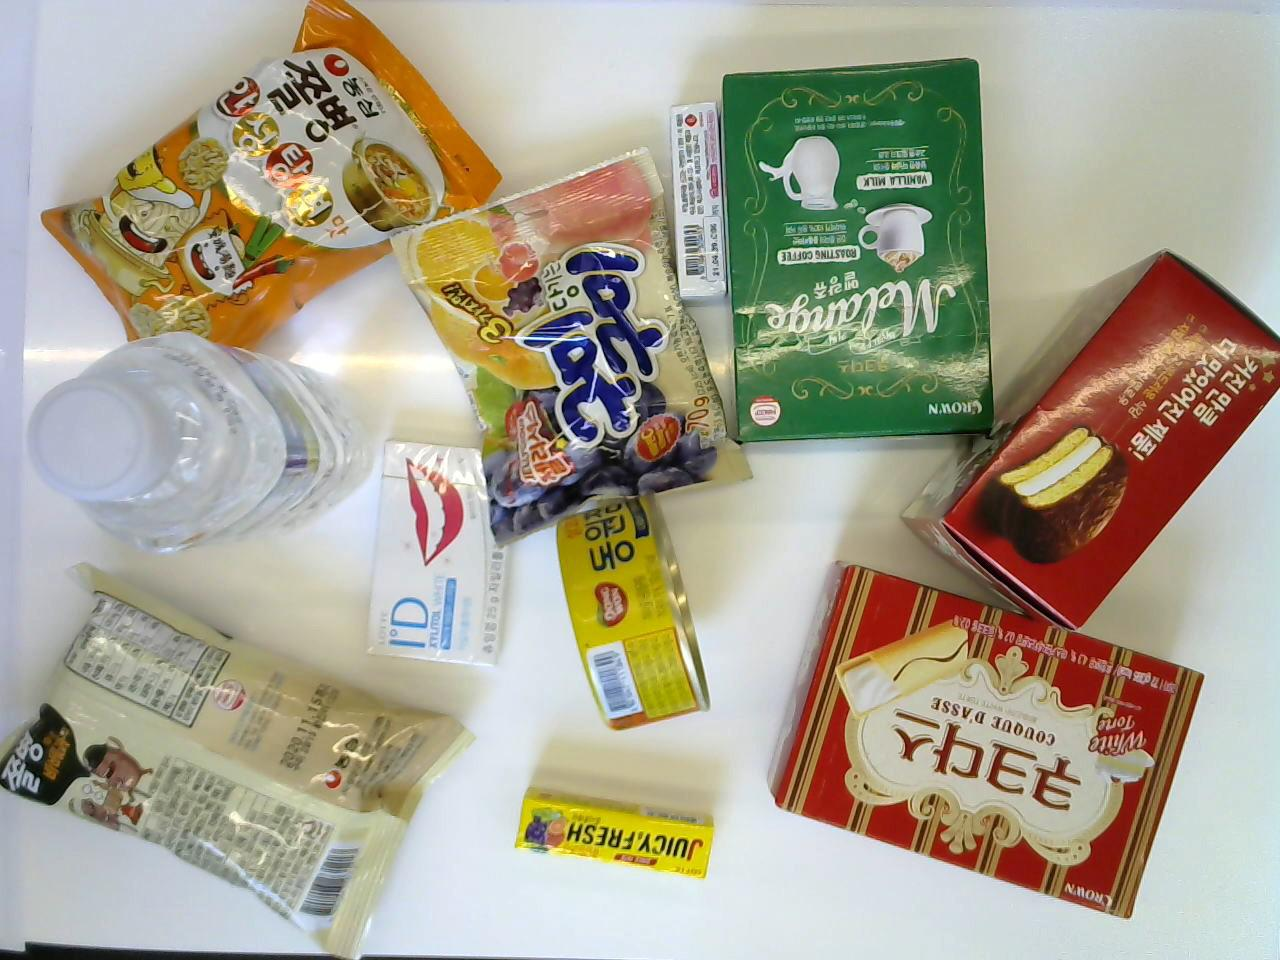ID_gum: (361, 433, 528, 667)
chocopie: (899, 251, 1280, 635)
couque_coffee: (711, 58, 992, 441)
couque_white: (769, 555, 1204, 922)
gumi_gumi: (384, 146, 751, 546)
jjolbyung_noodle: (37, 1, 499, 358)
jjolbyung_ori: (1, 561, 478, 958)
juicyfresh: (512, 782, 718, 880)
samdasu: (28, 334, 374, 559)
spearmint: (665, 101, 727, 306)
tuna: (555, 486, 708, 731)
